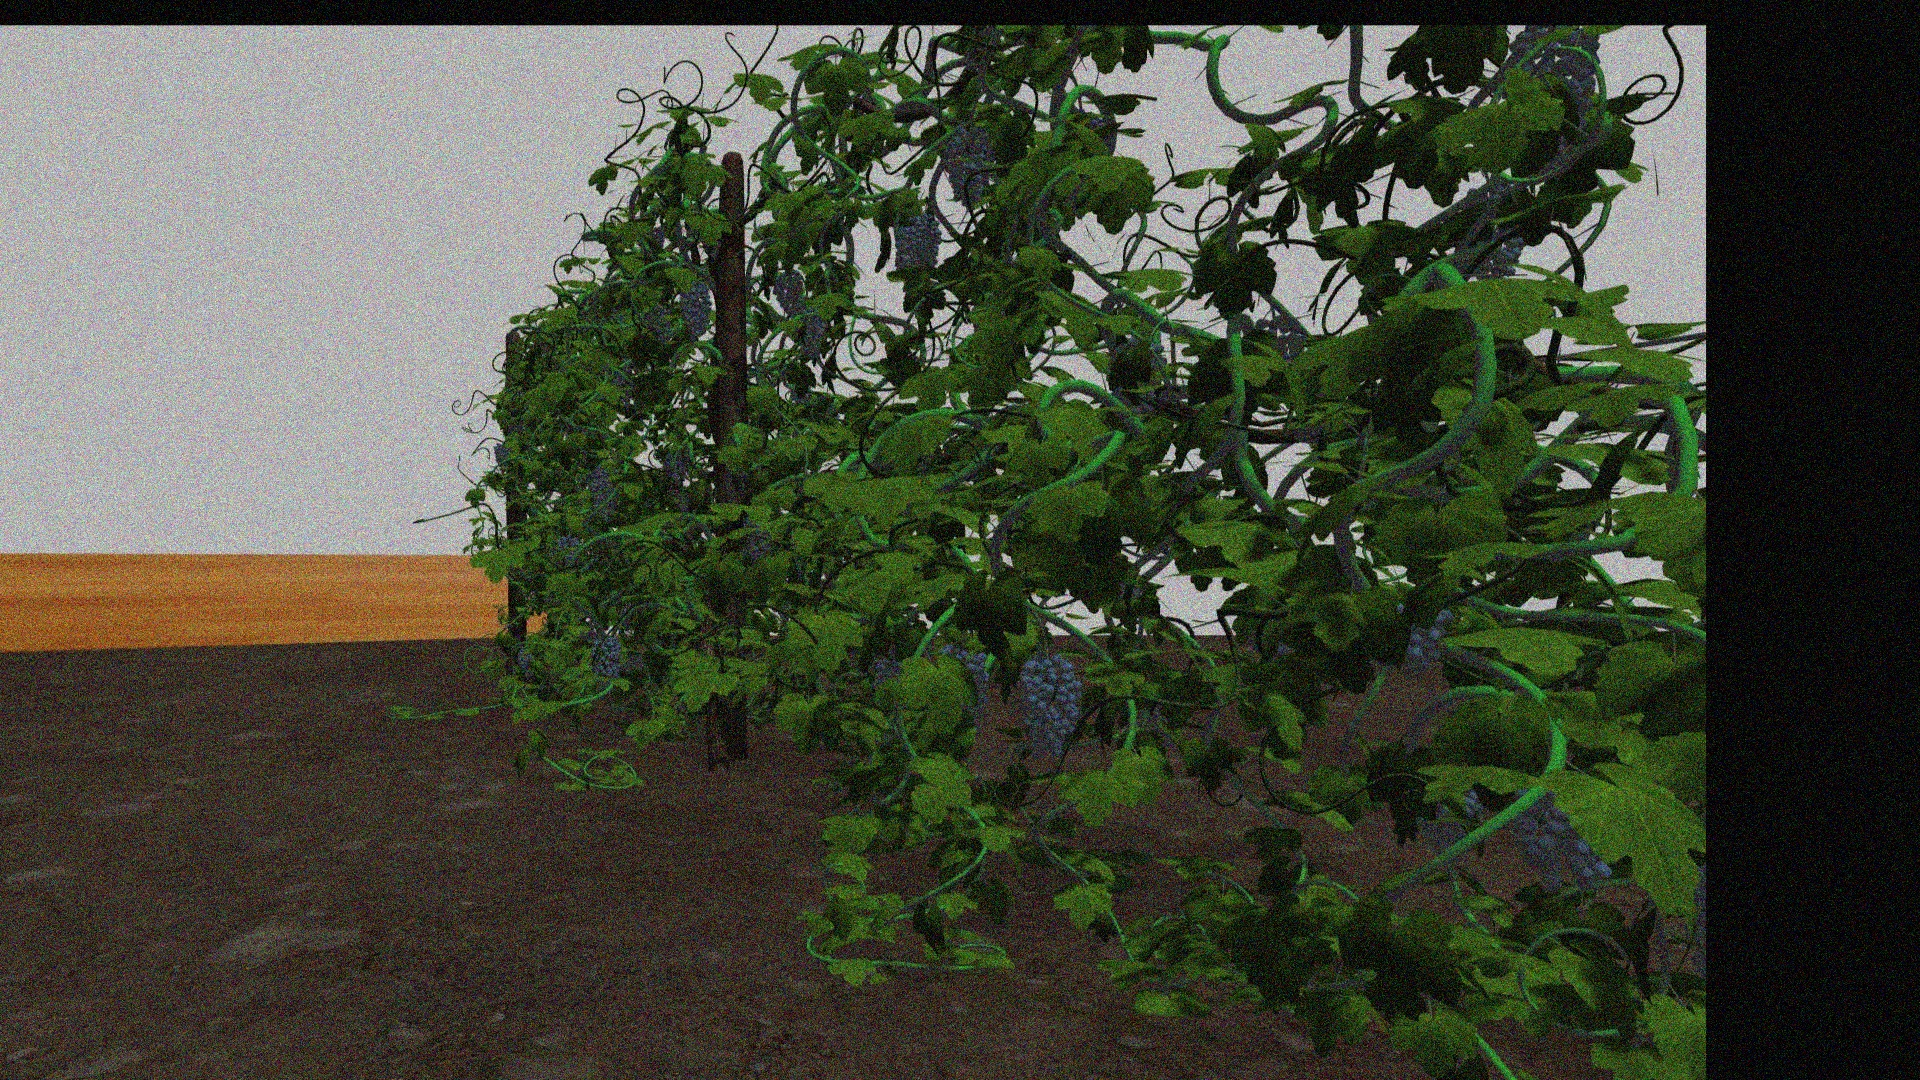grape: (1516, 787, 1615, 893), (1018, 658, 1085, 756), (1398, 603, 1455, 684), (943, 125, 998, 208), (891, 210, 942, 274), (680, 276, 713, 335), (592, 636, 622, 688), (589, 468, 618, 518), (800, 310, 831, 356), (771, 270, 803, 313), (558, 535, 582, 564), (517, 649, 533, 673), (495, 443, 512, 463)
